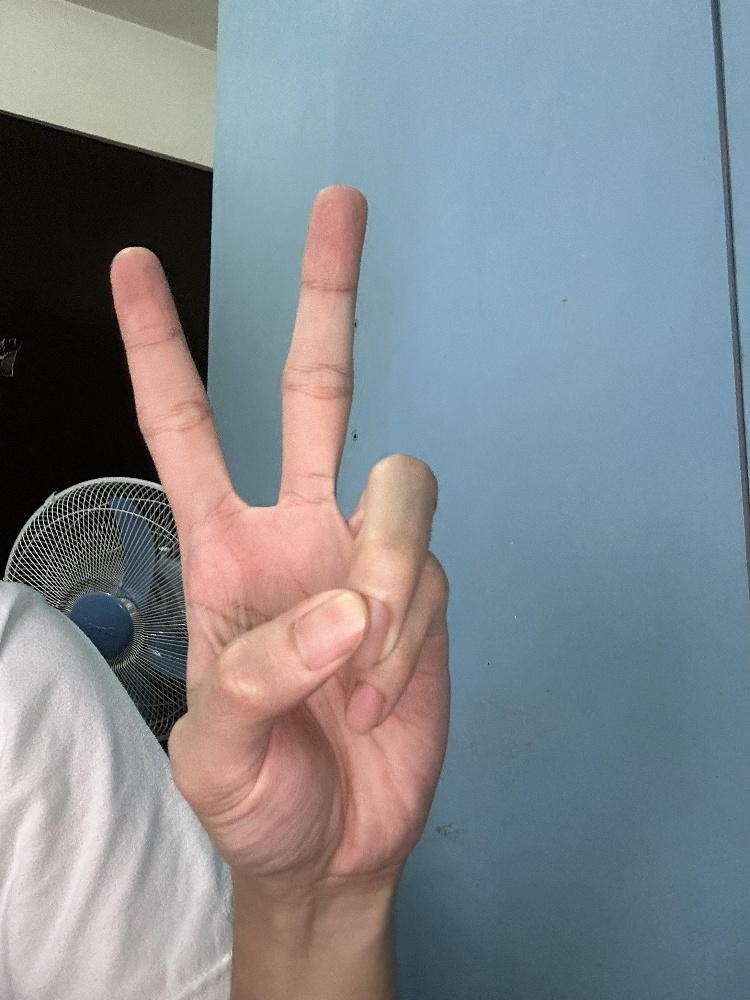v: (104, 179, 455, 901)
